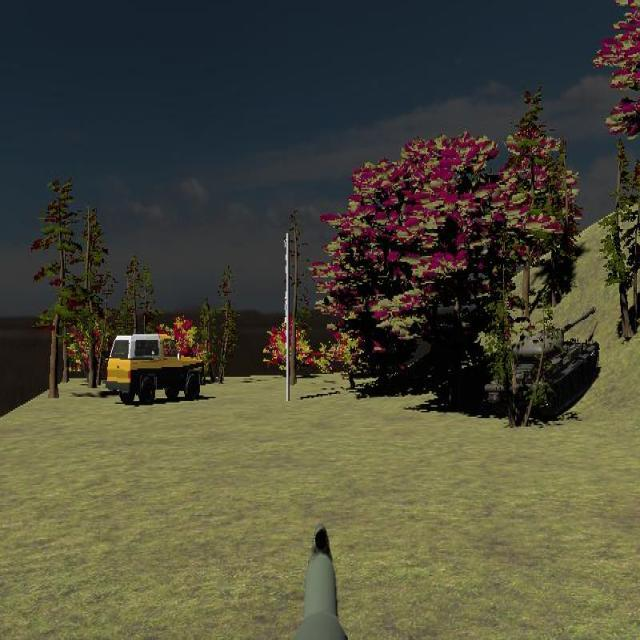Tank: (482, 305, 601, 422)
car: (106, 333, 204, 405)
